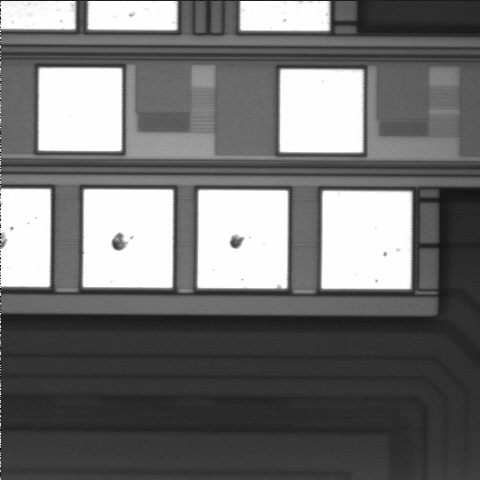pad: (83, 189, 173, 288), (198, 190, 288, 288), (322, 191, 412, 289), (280, 69, 363, 153), (39, 68, 122, 151)
